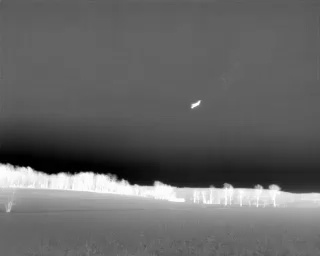DRONE: (187, 96, 205, 113)
